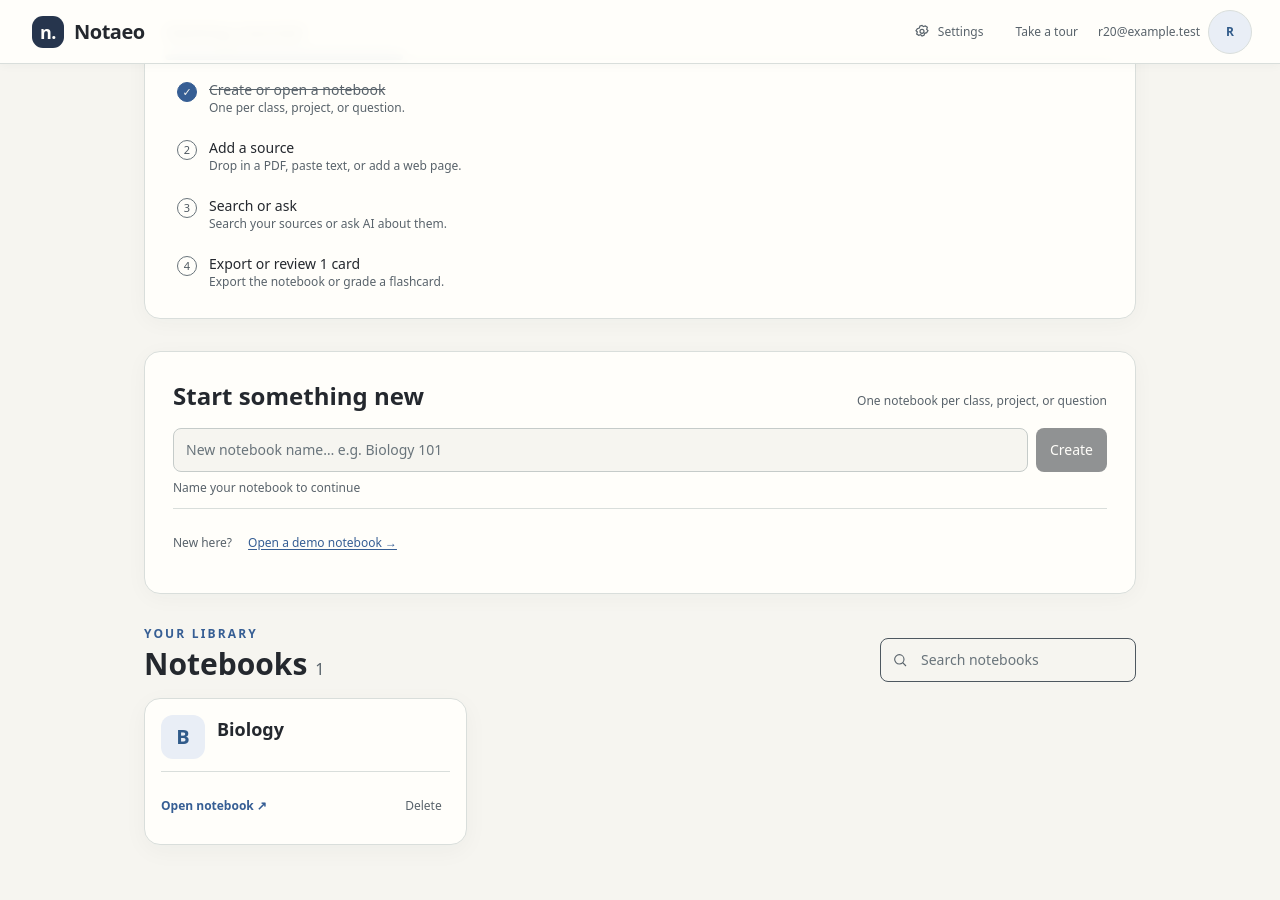
Test: item 5: breadcrumb trail is hidden below sm
This screenshot has width=1280, height=900.
(page scrolled)
Click the button with aria-label "Open Biology": (183, 737) 161,715 -> 450,759
(page scrolled)
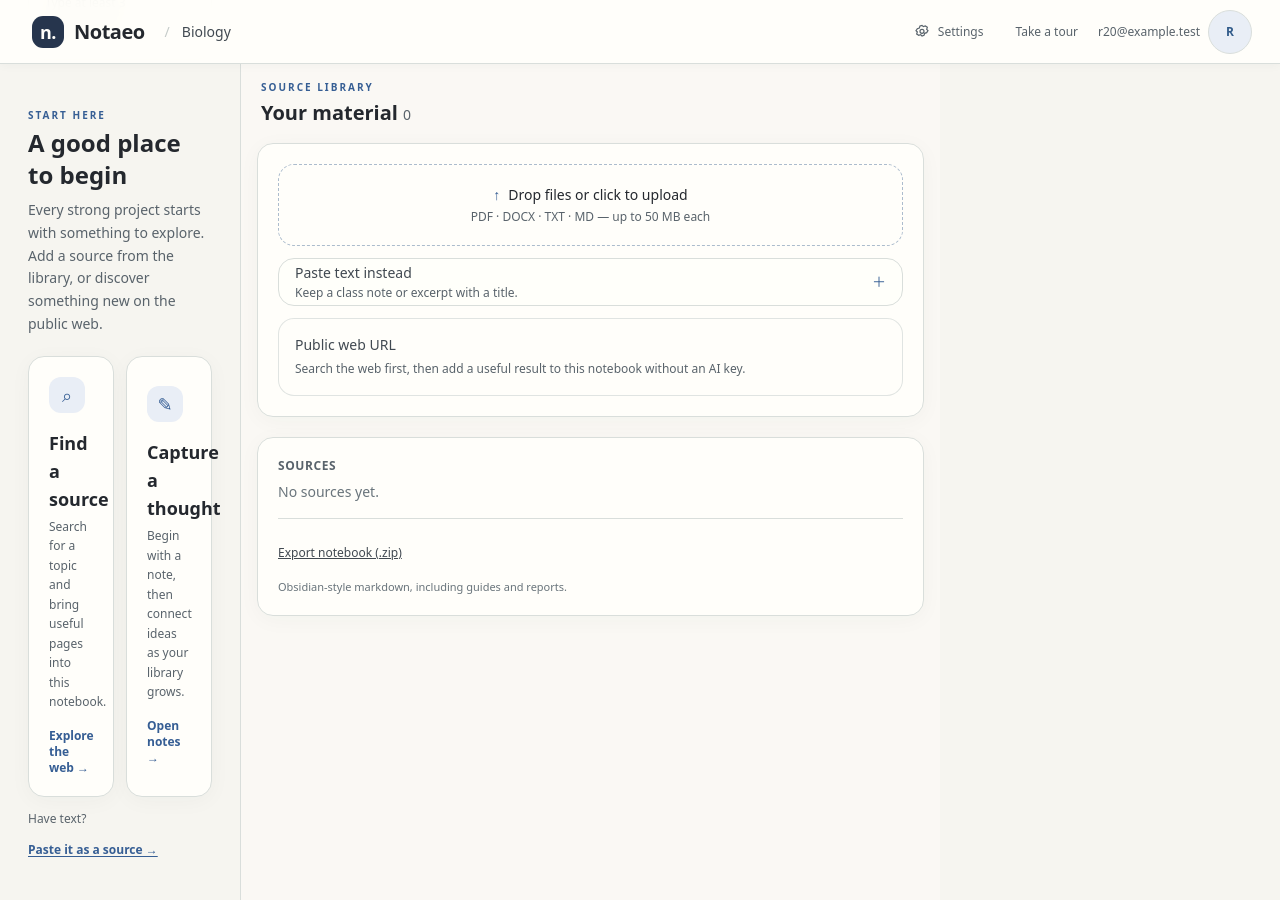
Check: the button "Paste text instead" is shown, box 278,258 -> 903,306
